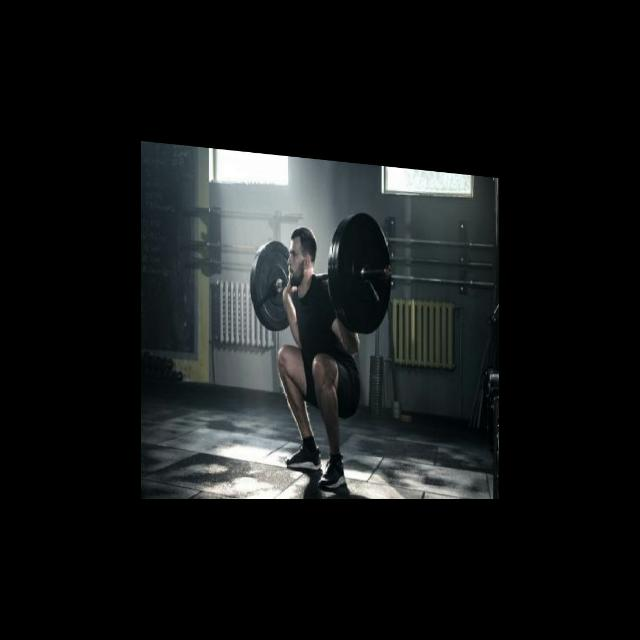barbell: (333, 203, 395, 333)
